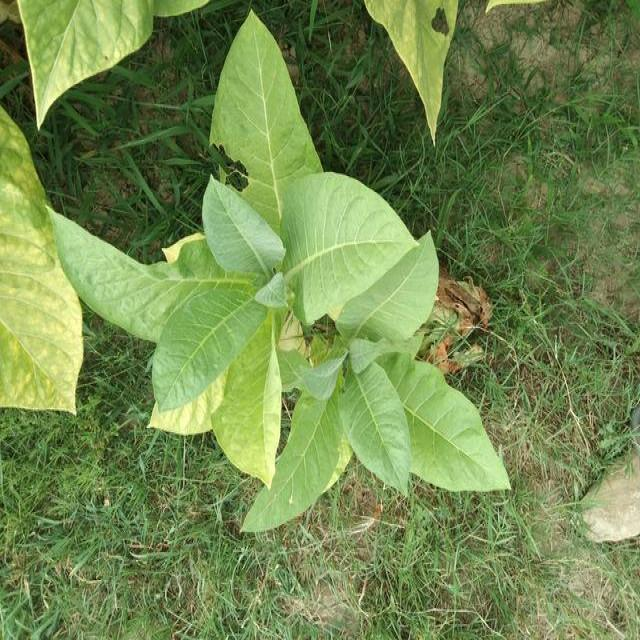crop: (146, 12, 518, 522)
